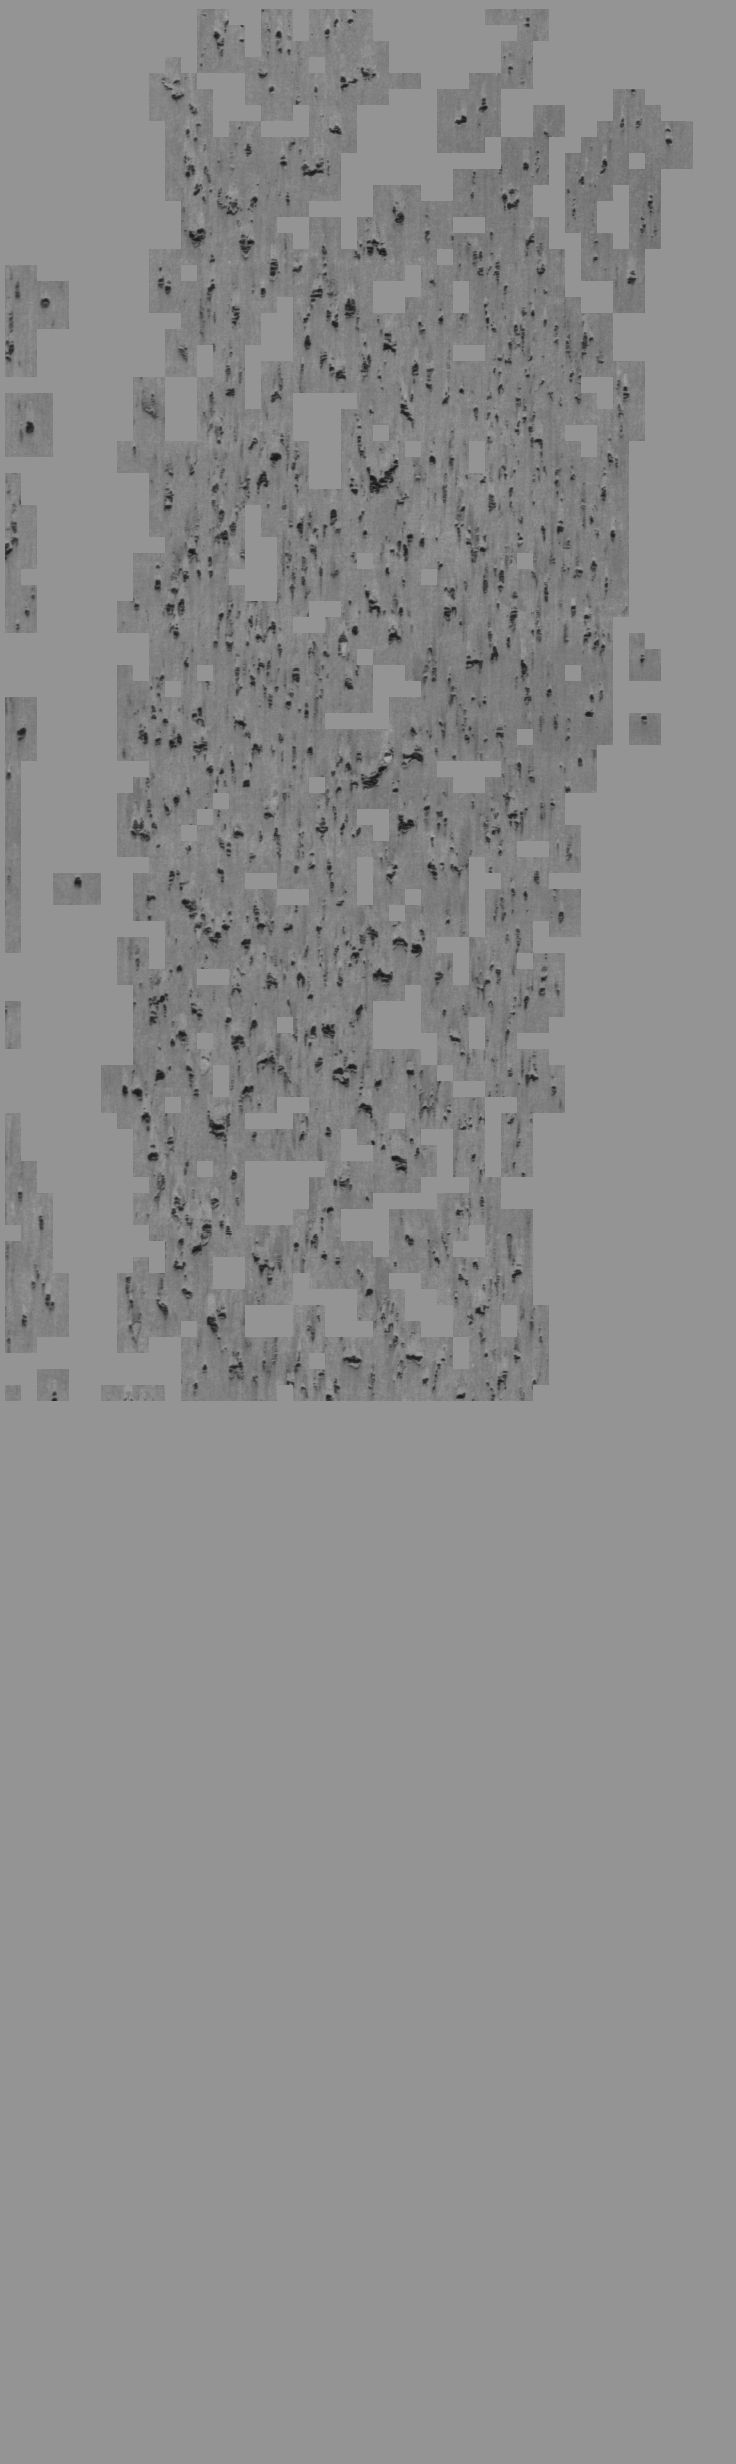oxl: (35, 9, 701, 2455)
